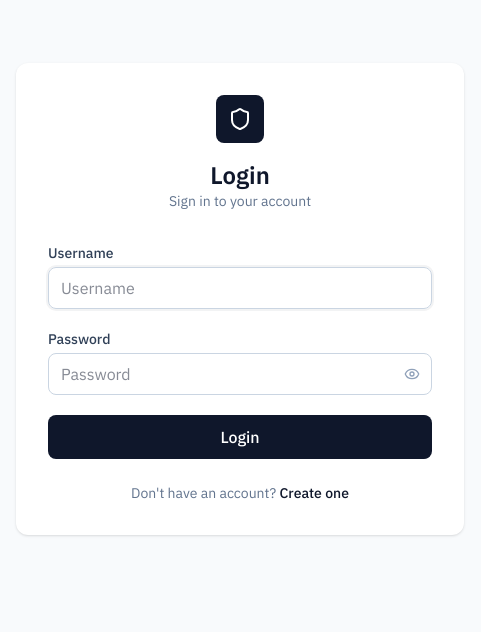
Scenario: LoginPage › displays specific error message when ApiError is thrown
Step 1. Type "testuser" into the field labelled "Username" → (240, 288), box [48,267,432,309]
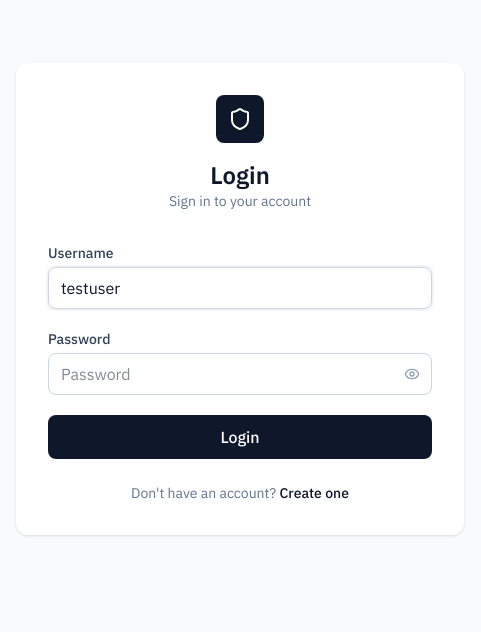
Step 2. Type "wrongpassword" into the password field with placeholder "Password" → (240, 374), box [48,353,432,395]
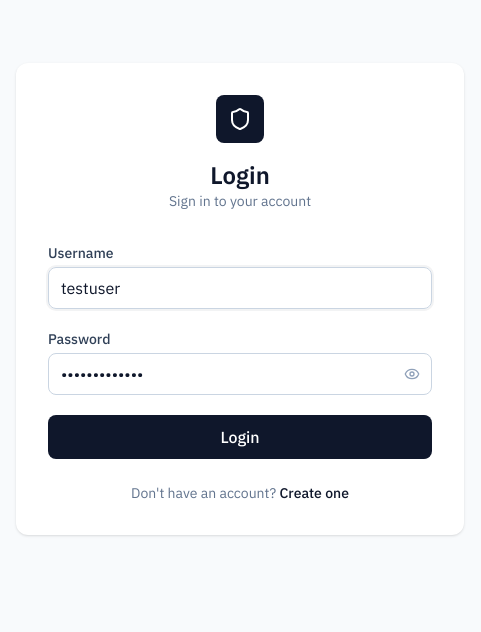
Step 3. Click the button with aria-label "sign in" → (240, 437), box [48,415,432,459]
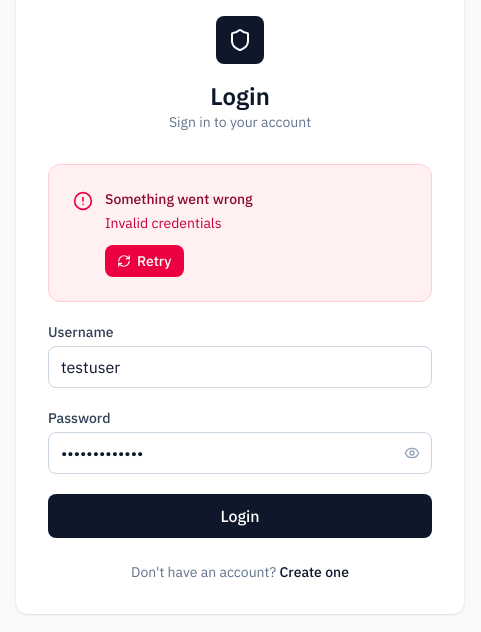
Now the text "Invalid credentials" is shown, box [105,214,222,232]
